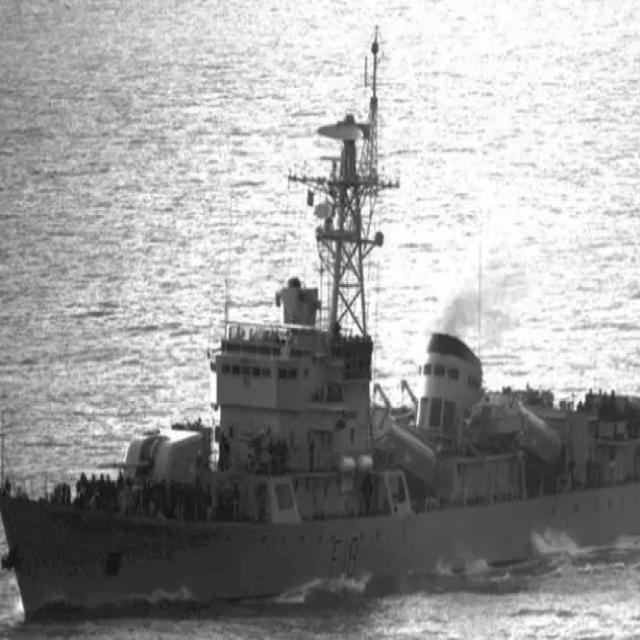navalvessels: (0, 97, 640, 598)
